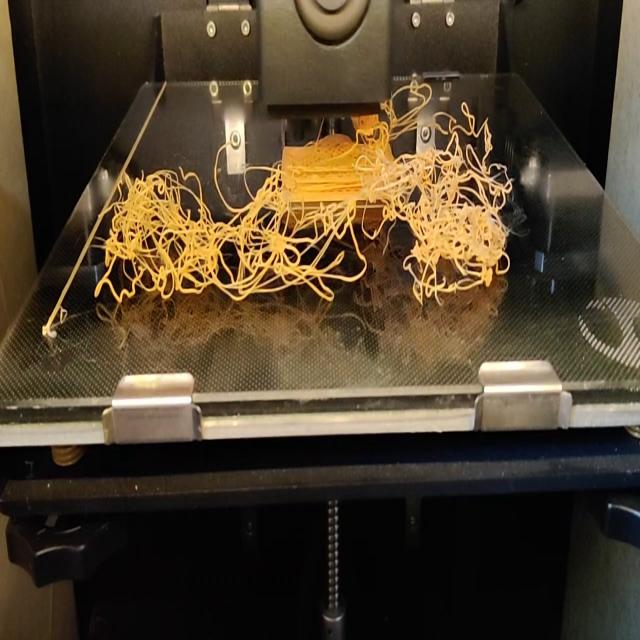spaghetti: (90, 117, 512, 310), (386, 75, 436, 113), (461, 98, 468, 108)
